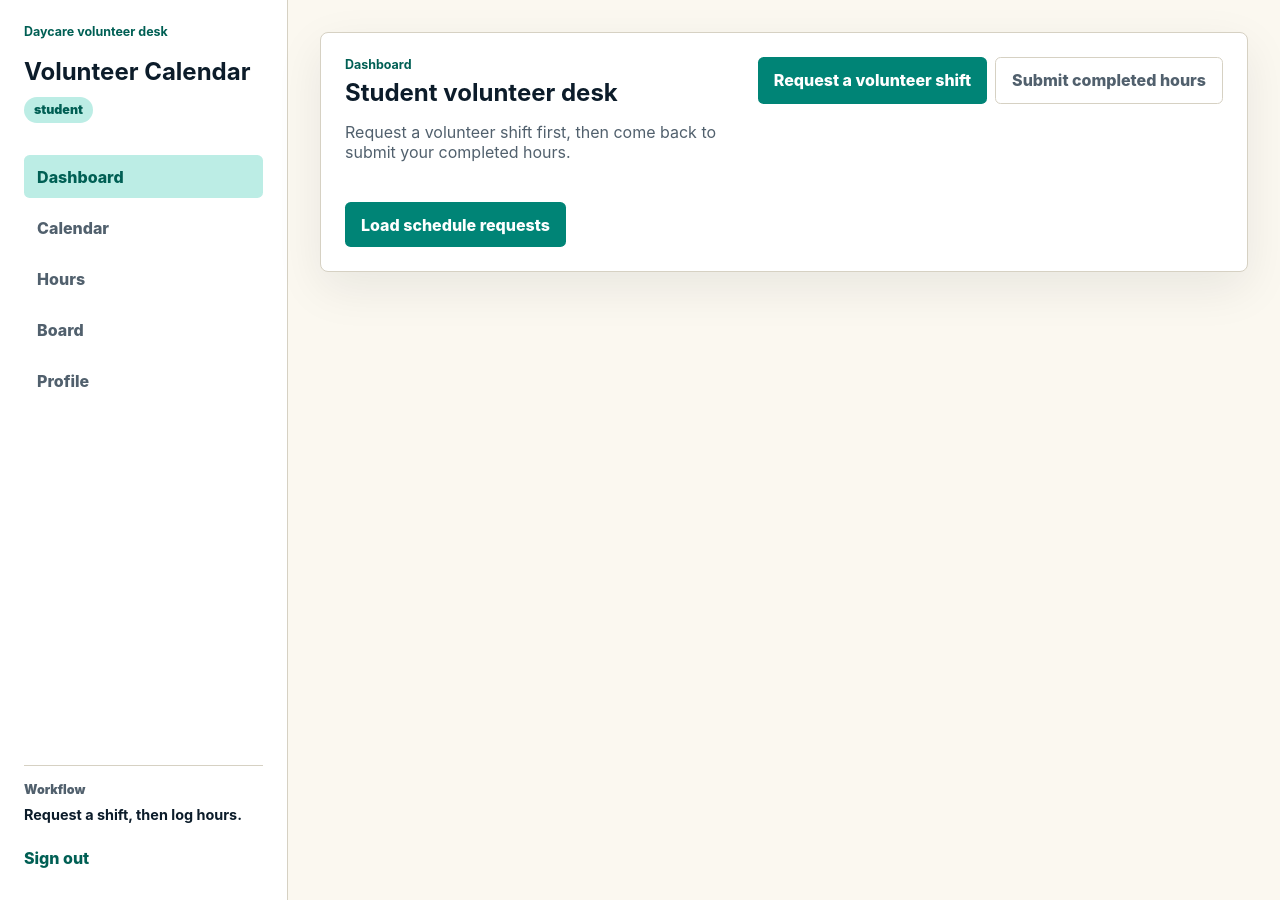
Test: App › upgrades the current user to teacher from profile
Click the button "Profile" at (144, 381), box [24,359,263,402]
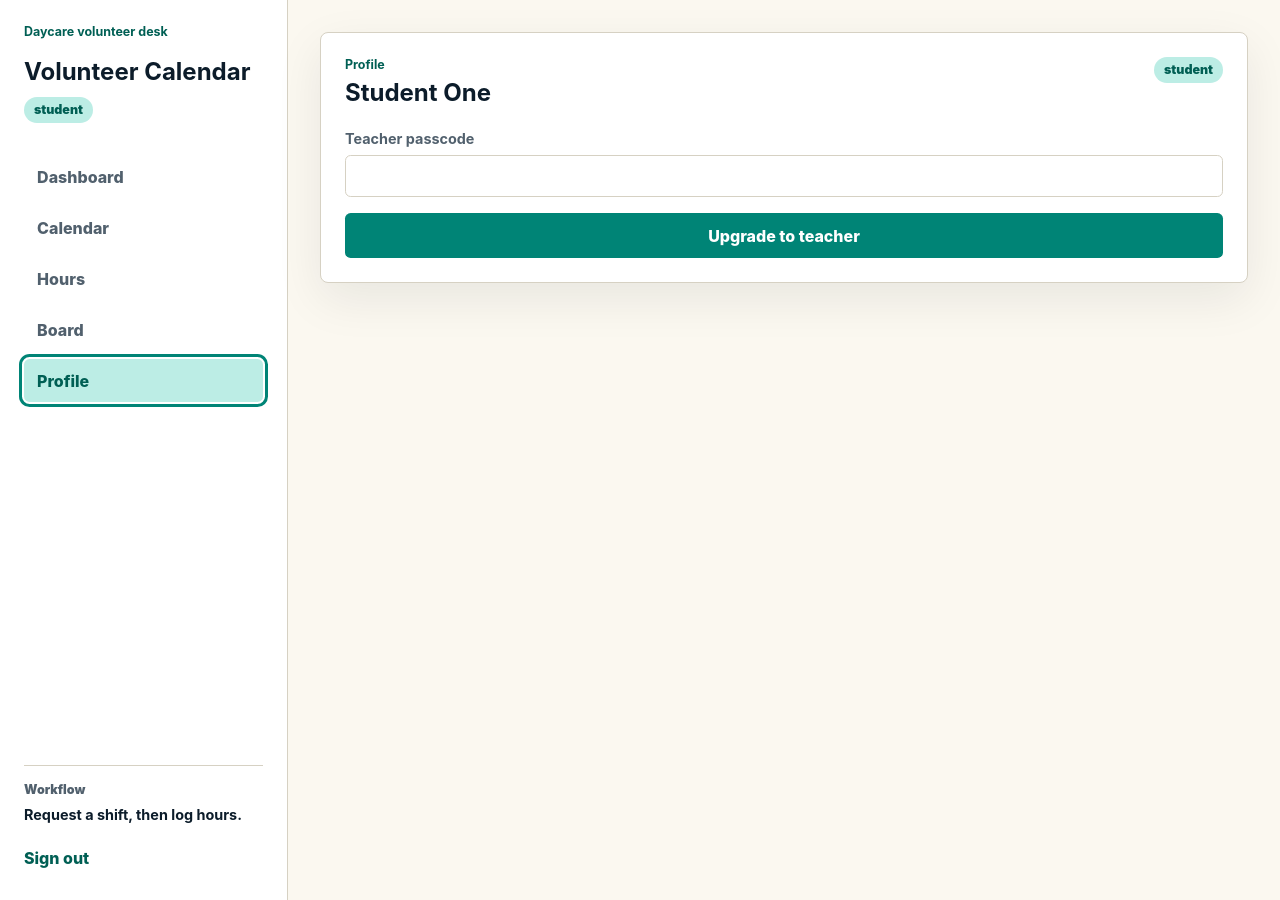
Type "qwer1234" into the password field labelled "Teacher passcode" at (784, 176), box [345,155,1223,197]
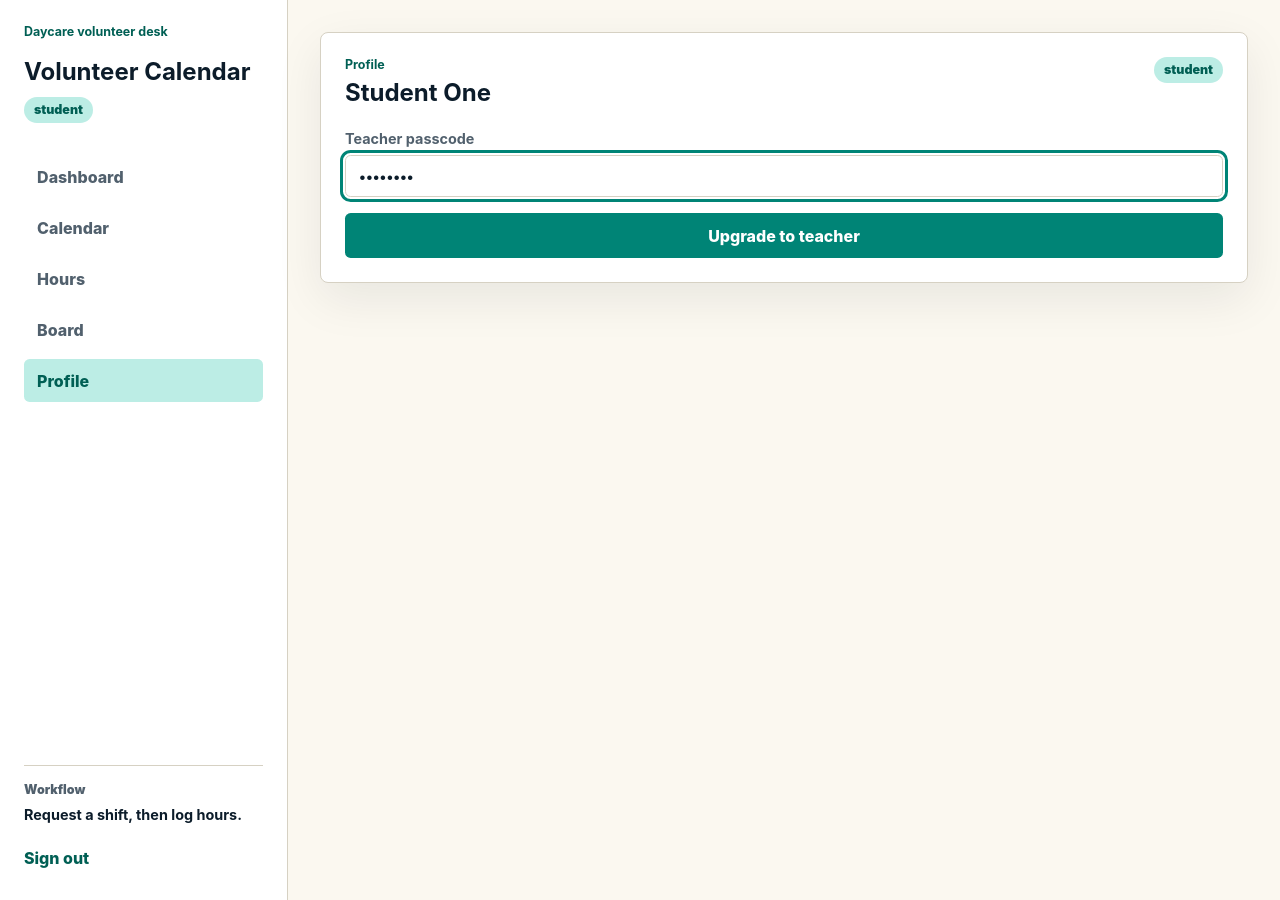
Click the button "Upgrade to teacher" at (784, 236), box [345,213,1223,258]
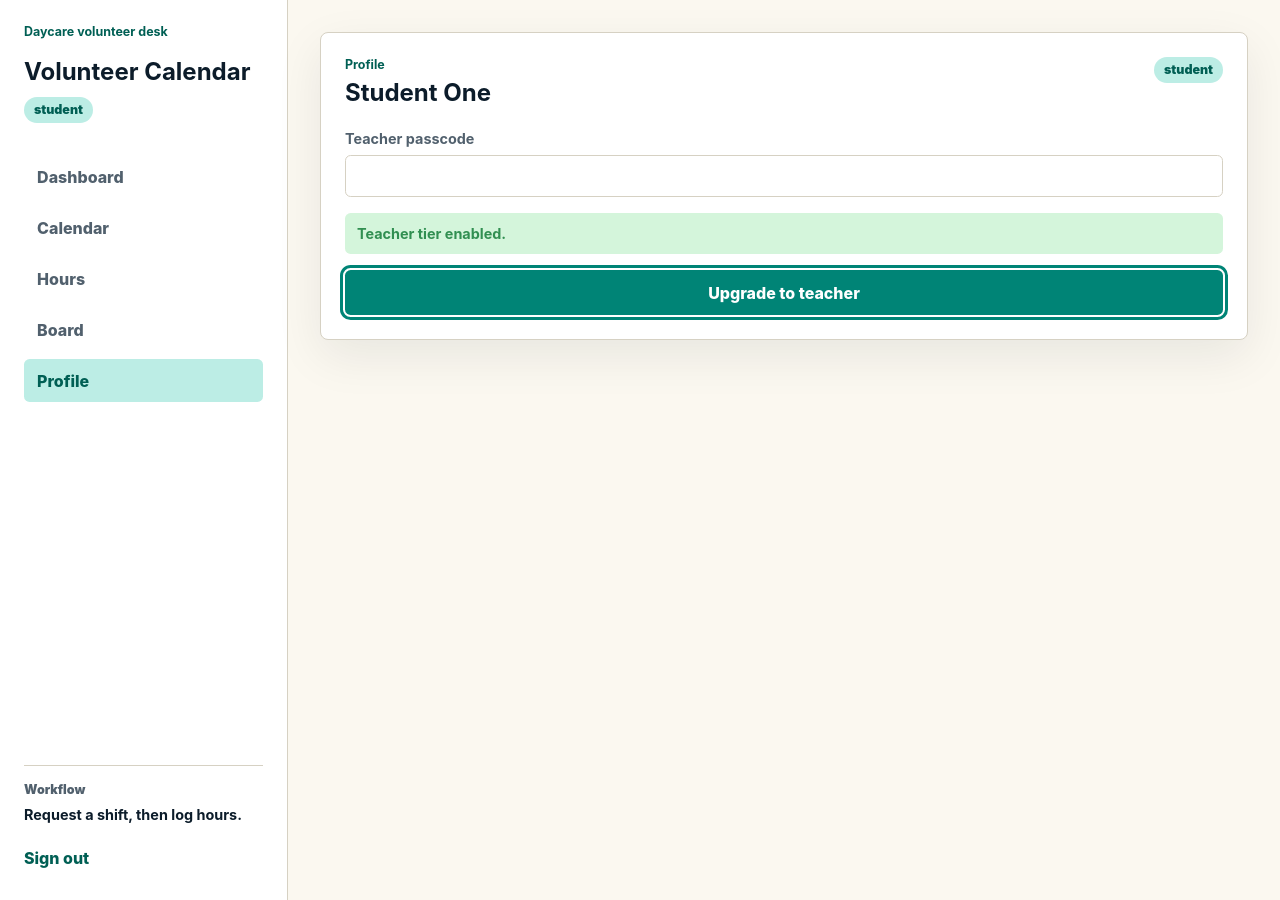
Expected: the text "Teacher tier enabled." is shown, [345,213,1223,254]
